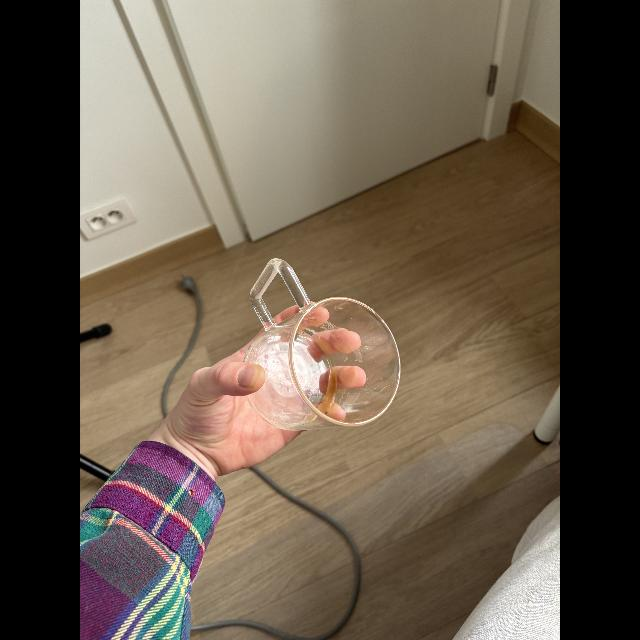Glass: (244, 252, 406, 434)
